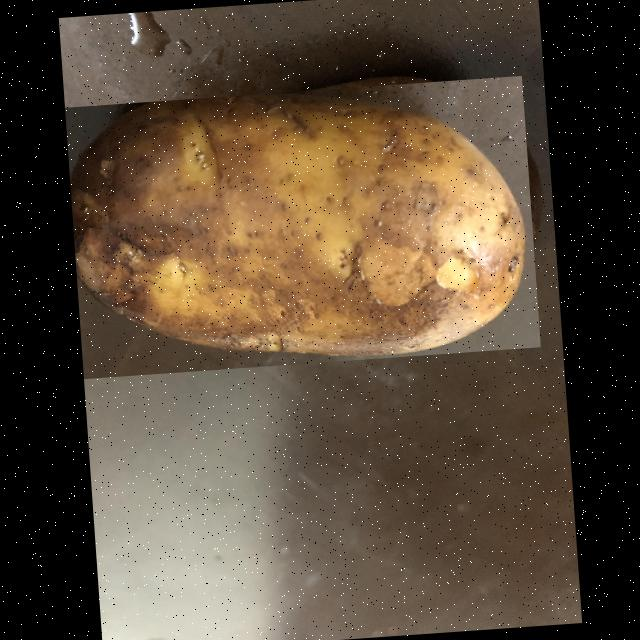Defected potato: (64, 75, 540, 378)
